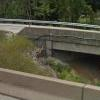Bridge: (2, 10, 98, 60)
